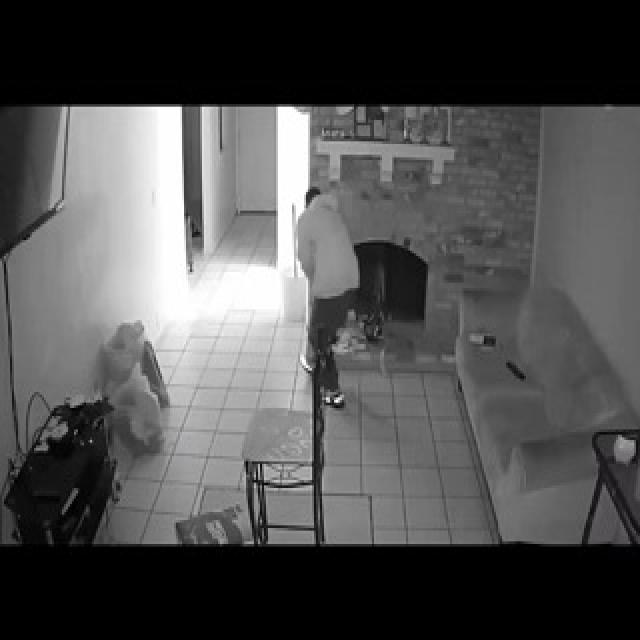thief: (295, 172, 347, 298)
